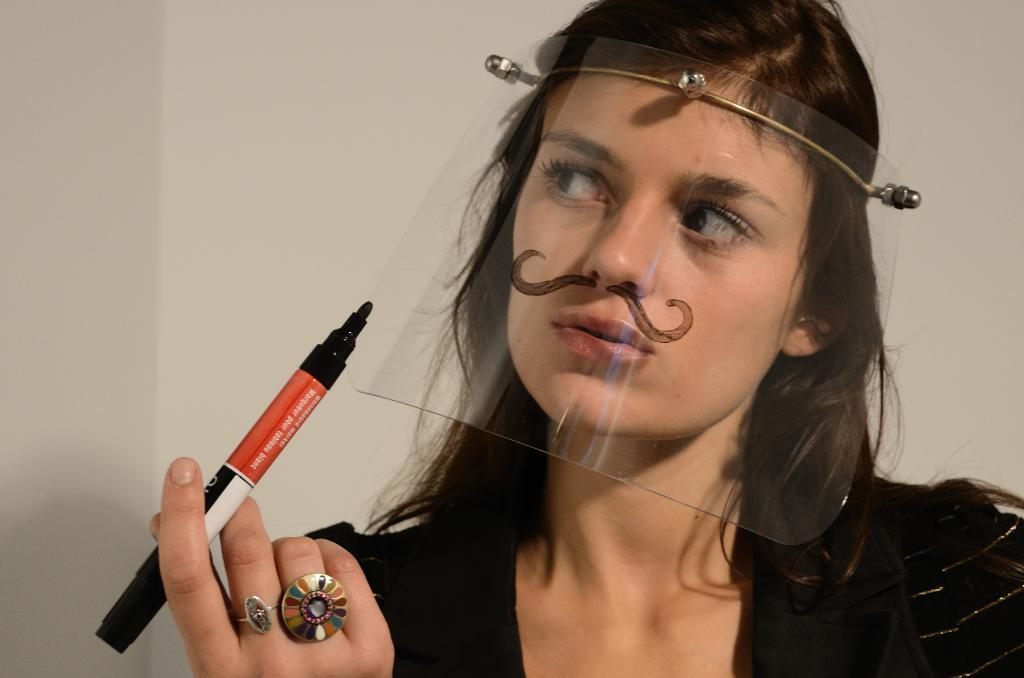pen: (92, 301, 372, 657)
